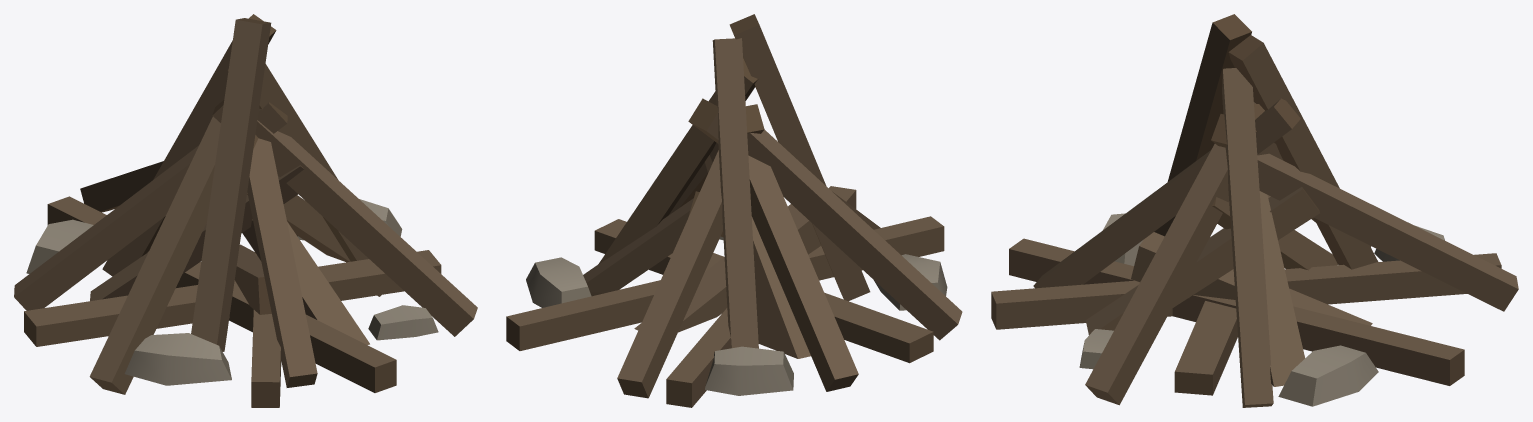
Rendered from Firepit_03.gltf.
3 renders of one model, left to right at view 1: azimuth 30°, elevation 25°; view 2: azimuth 150°, elevation 25°; view 3: azimuth 270°, elevation 25°, orthographic. The views are drawn at different scales.
Parts seen in each view (by area): view 1: SF_Prop_Firepit_03; view 2: SF_Prop_Firepit_03; view 3: SF_Prop_Firepit_03.
Boxes of the visible parts, bbox=[...] form: SF_Prop_Firepit_03: bbox=[14, 14, 477, 407]; SF_Prop_Firepit_03: bbox=[506, 14, 962, 407]; SF_Prop_Firepit_03: bbox=[991, 14, 1518, 407].
Size of the model in its own units: 0.0491 by 0.0376 by 0.056.
1 material, 1 textured.
